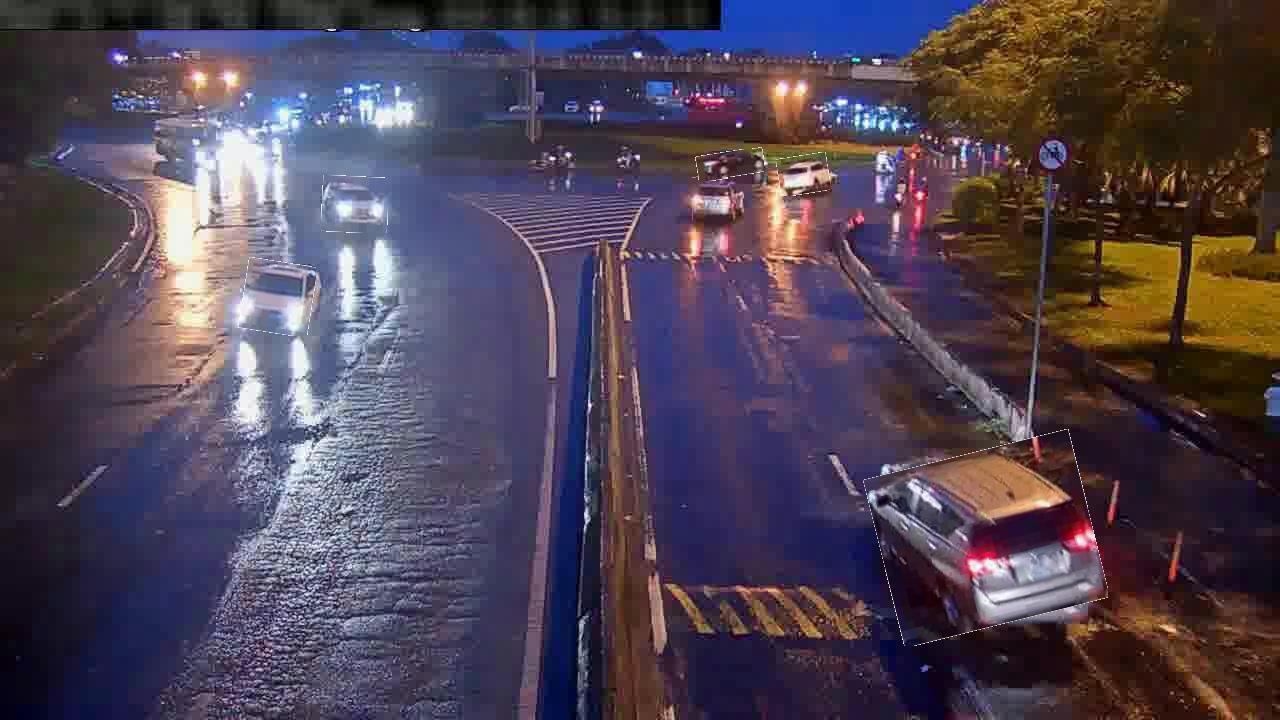container: (872, 441, 1101, 636), (241, 260, 315, 335), (322, 176, 389, 234), (692, 177, 744, 221), (778, 154, 830, 196), (696, 150, 765, 180)
